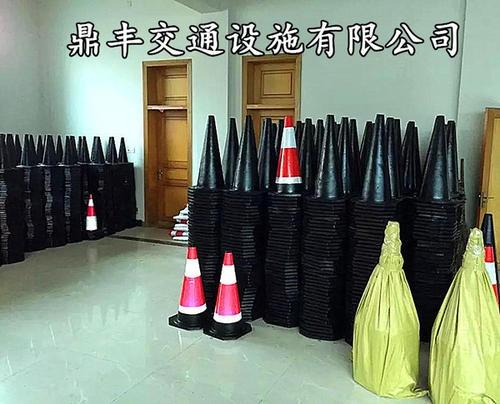cone_barrel: (414, 110, 458, 203), (167, 243, 209, 328), (311, 111, 346, 204), (208, 251, 245, 337), (359, 114, 393, 204), (192, 117, 224, 200), (229, 112, 260, 194), (270, 118, 303, 194), (80, 189, 99, 234), (89, 135, 104, 162), (105, 136, 116, 162), (116, 136, 127, 161)
